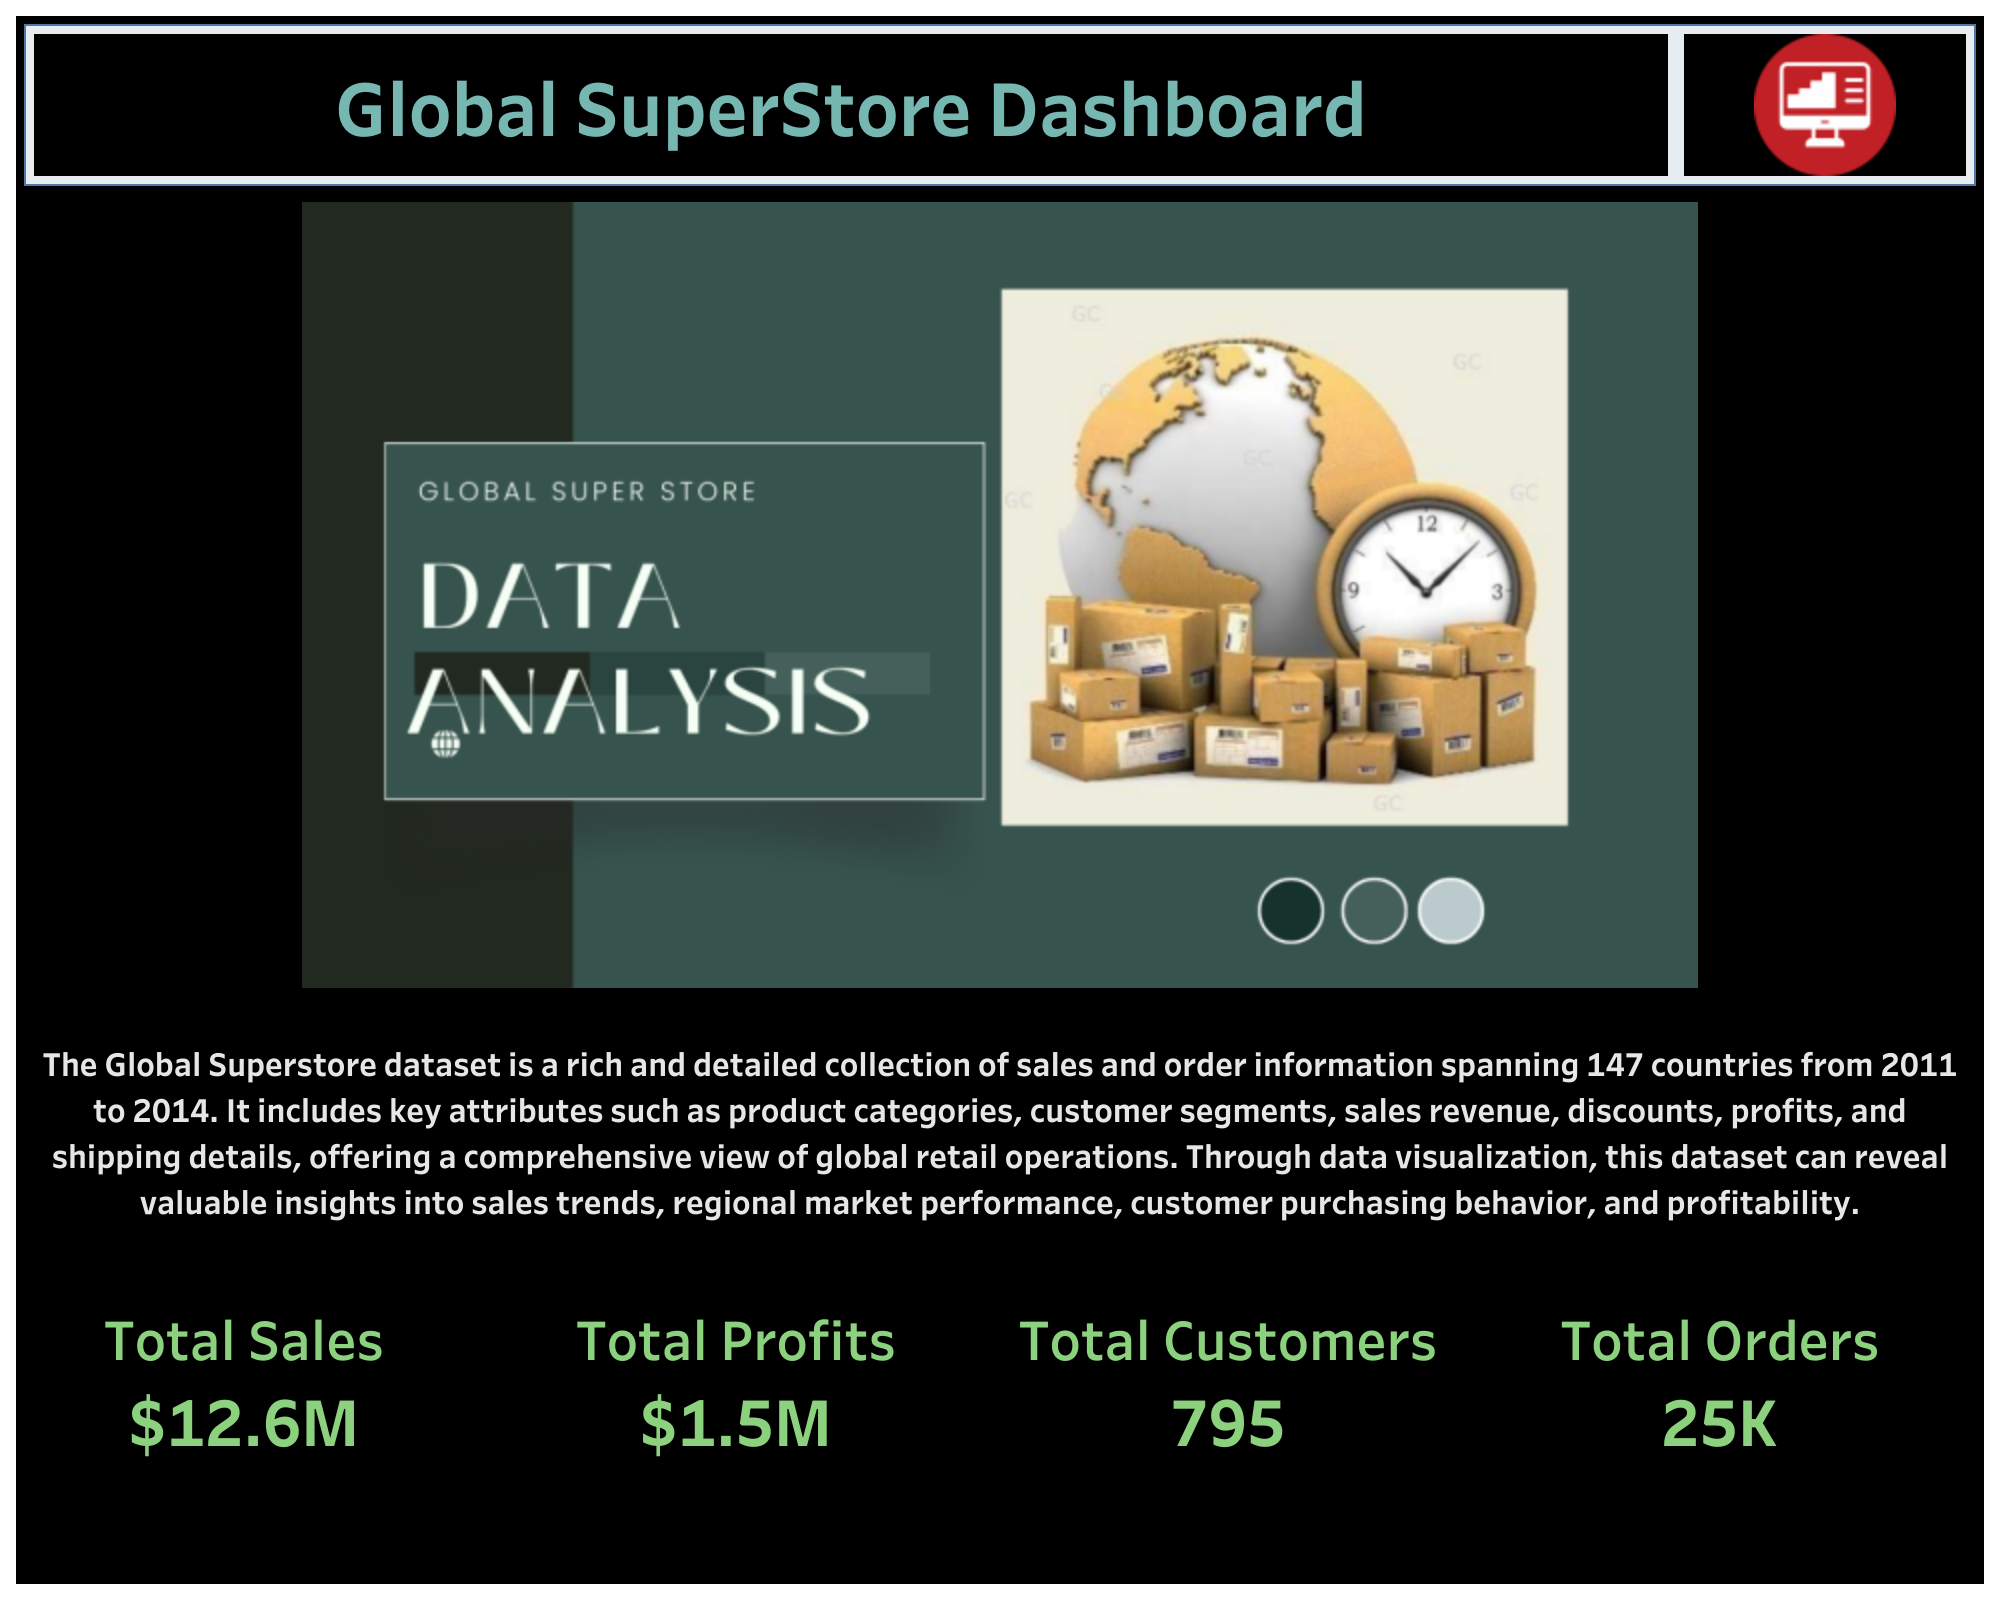

The page's visual inventory and layout, read from the dashboard file:
{"tool":"tableau","page":{"name":"Home_Dashboard","canvas":[1000,800],"ordinal":0},"visuals":[{"type":"text","box":[13,13,825,78.9]},{"type":"dashboard-object","box":[838,13,149,79]},{"type":"image","param":"Image/home_picture.png","box":[8,96.9,984,401.4]},{"type":"text","box":[8,498.3,984,118]},{"type":"worksheet","title":"Total Sales","mark":"Automatic","box":[8,640,246,94]},{"type":"worksheet","title":"Total Profit","mark":"Automatic","box":[254,640,246,94]},{"type":"worksheet","title":"Total Customers","mark":"Automatic","box":[500,640,246,94]},{"type":"worksheet","title":"Total Orders","mark":"Automatic","box":[746,640,246,94]}]}

Visuals, with their boxes in screenshot pixels (x1, y1, x2, y2), scaled from the page's 1000x800 canvas onto the 1998x1598 screenshot:
text: <box>26,26,1674,184</box>
dashboard-object: <box>1674,26,1972,184</box>
image: <box>16,194,1982,995</box>
text: <box>16,995,1982,1231</box>
"Total Sales" worksheet: <box>16,1278,507,1466</box>
"Total Profit" worksheet: <box>507,1278,999,1466</box>
"Total Customers" worksheet: <box>999,1278,1491,1466</box>
"Total Orders" worksheet: <box>1491,1278,1982,1466</box>
